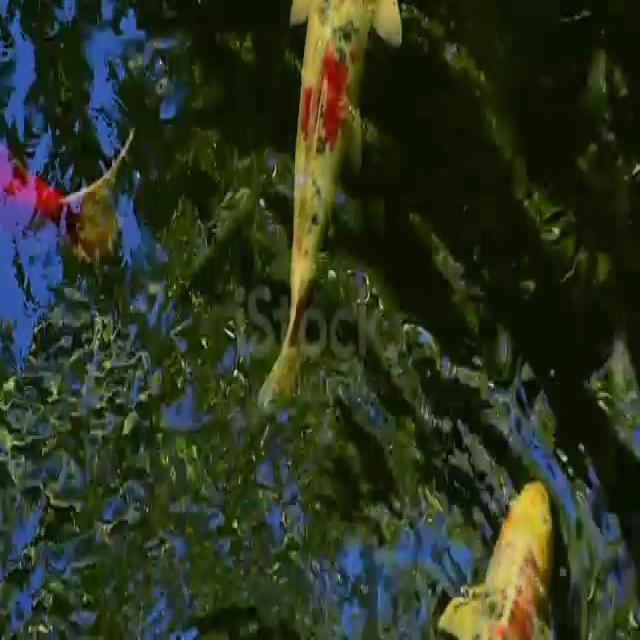fish: (271, 2, 405, 414), (445, 426, 557, 640)
